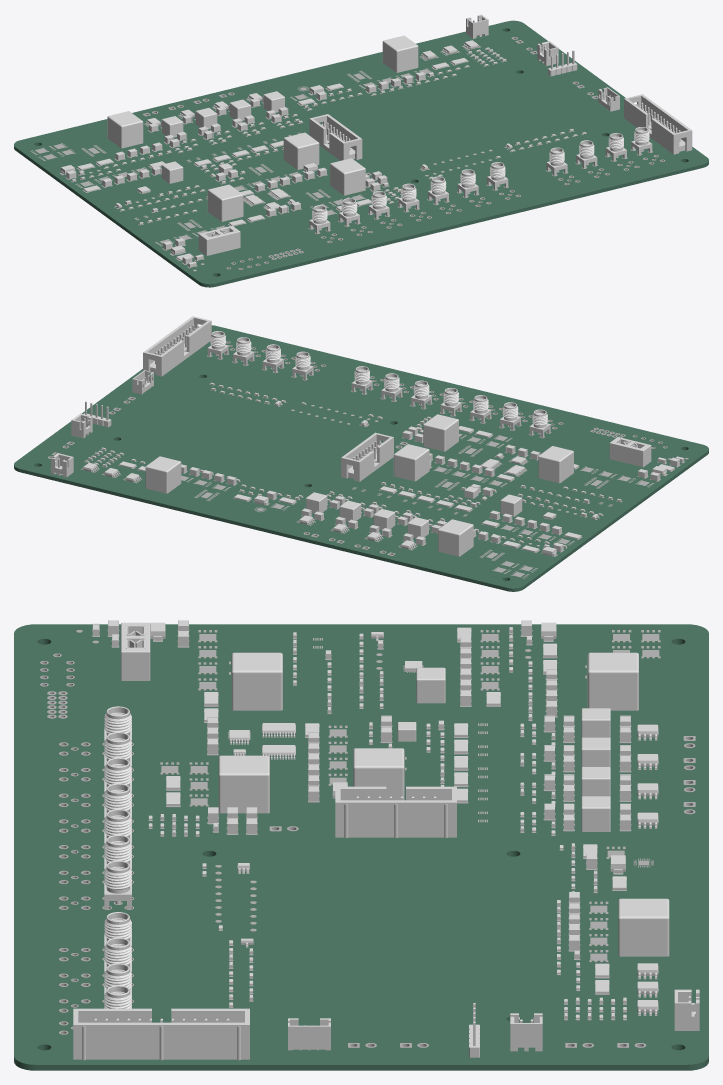
File: pcb-a-power.glb
3 views of the same model, one above another, from view 1: azimuth 30°, elevation 25°; view 2: azimuth 150°, elevation 25°; view 3: azimuth 270°, elevation 25° (orthographic). The views are drawn at different scales.
Visible parts, largest first — view 1: =>[0:1:1:28], =>[0:1:1:27], J_AB1, J_MEZZ1, L1, L11, L10, L9, L8, F1, J_RF8, J_RF4 (+8 smaller); view 2: =>[0:1:1:28], =>[0:1:1:27], J_AB1, J_MEZZ1, L11, L8, L1, L10, L9, F1, J_MAINSW, J_HEAT (+6 smaller); view 3: =>[0:1:1:28], =>[0:1:1:27], J_AB1, J_MEZZ1, L10, L11, L1, L9, L8, F1, J_USBW, J_RF7 (+15 smaller).
Part boxes in pixels (bbox=[...]): =>[0:1:1:28]: bbox=[14, 20, 708, 287]; =>[0:1:1:27]: bbox=[30, 37, 664, 271]; J_AB1: bbox=[624, 94, 692, 154]; J_MEZZ1: bbox=[309, 114, 362, 160]; L1: bbox=[107, 111, 143, 148]; L11: bbox=[382, 35, 418, 72]; L10: bbox=[207, 184, 243, 221]; L9: bbox=[330, 158, 365, 195]; L8: bbox=[283, 132, 319, 169]; F1: bbox=[198, 225, 240, 255]; J_RF8: bbox=[546, 147, 567, 175]; J_RF4: bbox=[398, 183, 419, 211]; =>[0:1:1:28]: bbox=[14, 325, 708, 591]; =>[0:1:1:27]: bbox=[48, 341, 688, 578]; J_AB1: bbox=[143, 316, 211, 376]; J_MEZZ1: bbox=[341, 432, 393, 481]; L11: bbox=[145, 456, 181, 493]; L8: bbox=[393, 444, 429, 481]; L1: bbox=[438, 519, 473, 556]; L10: bbox=[538, 446, 573, 483]; L9: bbox=[423, 414, 458, 451]; F1: bbox=[609, 437, 651, 467]; J_MAINSW: bbox=[51, 453, 73, 477]; J_HEAT: bbox=[71, 413, 92, 438]; =>[0:1:1:28]: bbox=[14, 624, 708, 1070]; =>[0:1:1:27]: bbox=[40, 629, 695, 1047]; J_AB1: bbox=[73, 1008, 249, 1060]; J_MEZZ1: bbox=[335, 786, 456, 837]; L10: bbox=[231, 652, 282, 710]; L11: bbox=[618, 898, 669, 956]; L1: bbox=[587, 652, 638, 710]; L9: bbox=[218, 755, 269, 813]; L8: bbox=[353, 748, 404, 800]; F1: bbox=[121, 622, 150, 680]; J_USBW: bbox=[288, 1018, 330, 1050]; J_RF7: bbox=[104, 860, 131, 909].
Bounding box in the file's own units: 0.24 × 0.0134 × 0.16.
